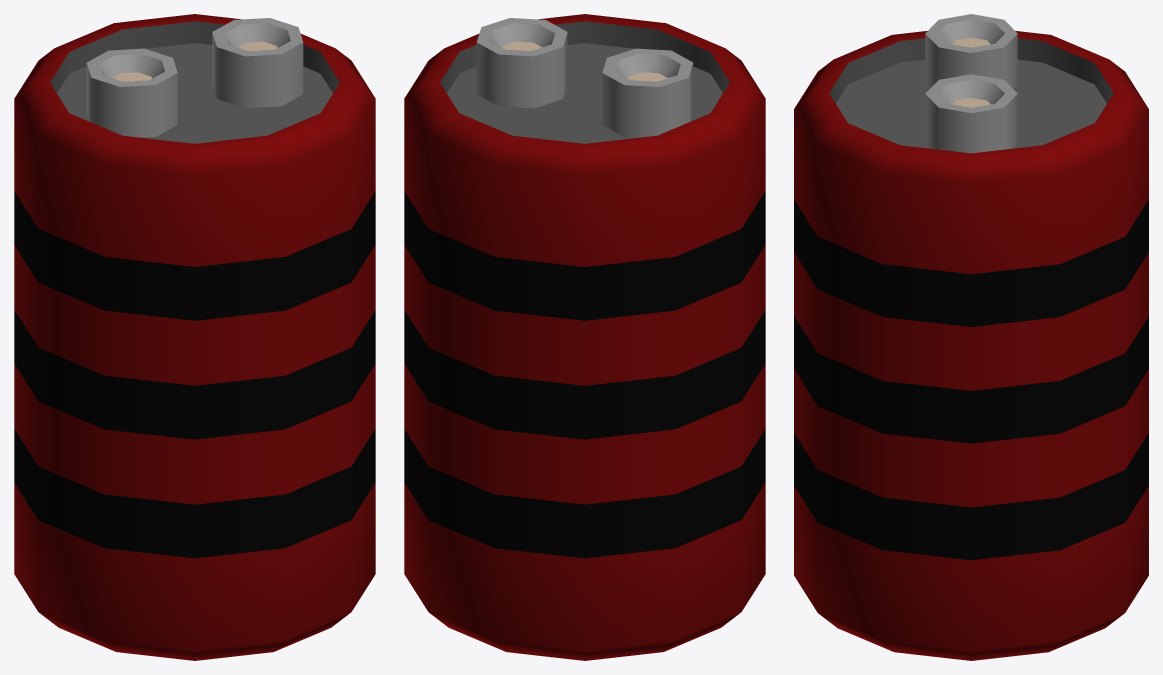
File: Battery.fbx
3 renders of one model, left to right at view 1: azimuth 30°, elevation 25°; view 2: azimuth 150°, elevation 25°; view 3: azimuth 270°, elevation 25°, orthographic.
Visible parts, largest first — view 1: Battery; view 2: Battery; view 3: Battery.
Boxes of the visible parts, box(x1,y1,x2,y2) form: Battery: box(14, 14, 375, 660); Battery: box(404, 14, 765, 660); Battery: box(794, 14, 1148, 660).
Bounding box in the file's own units: 3.02 × 5 × 3.02.
